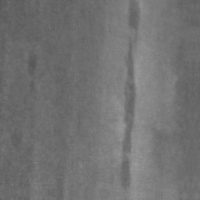inclusion: (156, 66, 192, 192), (114, 33, 142, 193), (122, 0, 145, 56), (21, 51, 41, 103)
